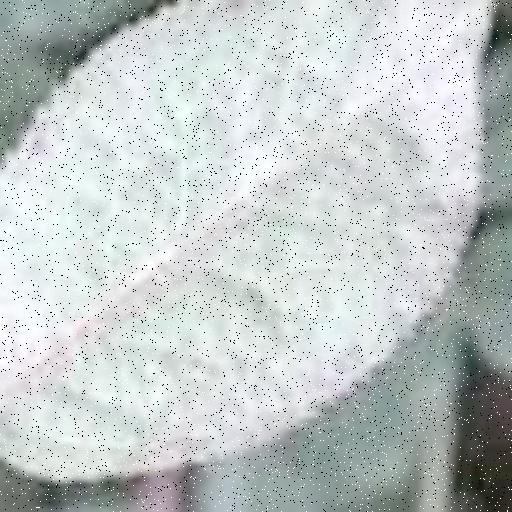powdery_mildew: (0, 0, 492, 480)
